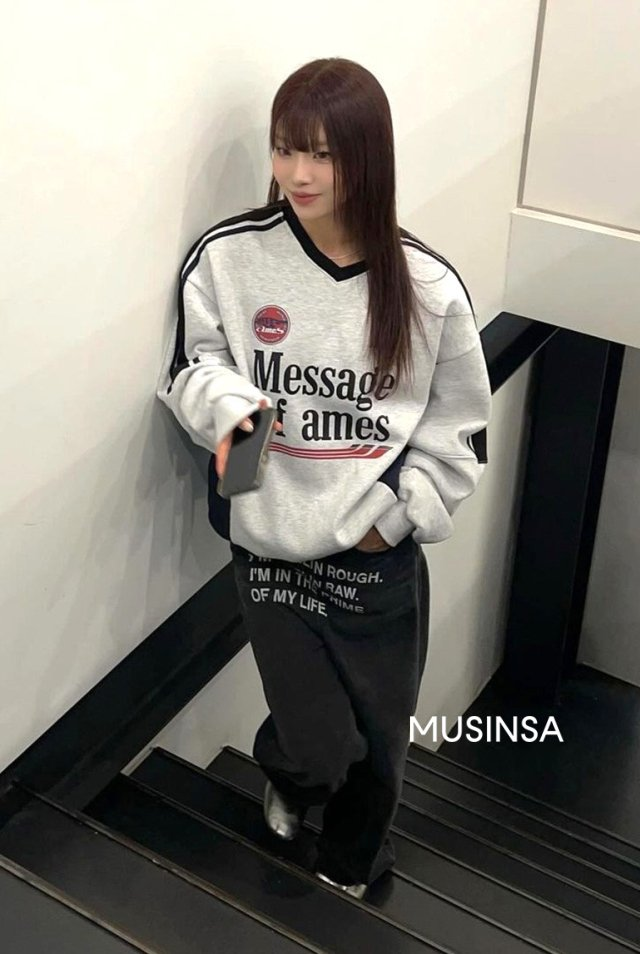Pants: (224, 525, 435, 891)
Shoes: (260, 774, 395, 904)
Sweatshirt: (160, 194, 501, 568)
